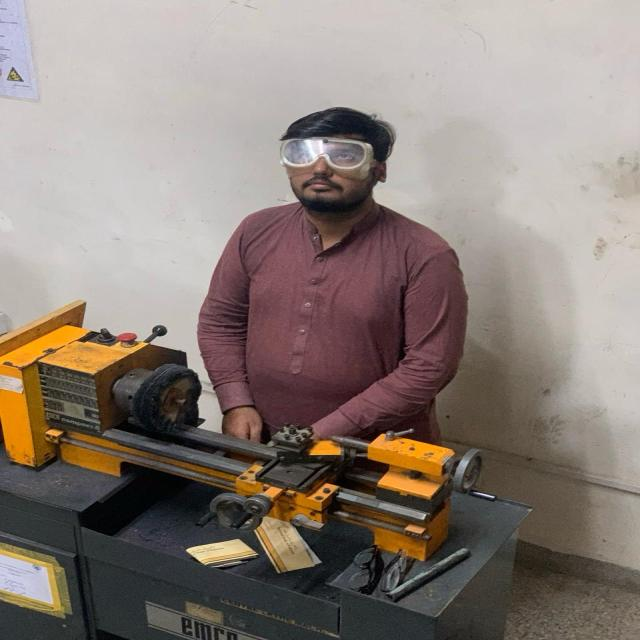googles: (279, 136, 373, 170)
